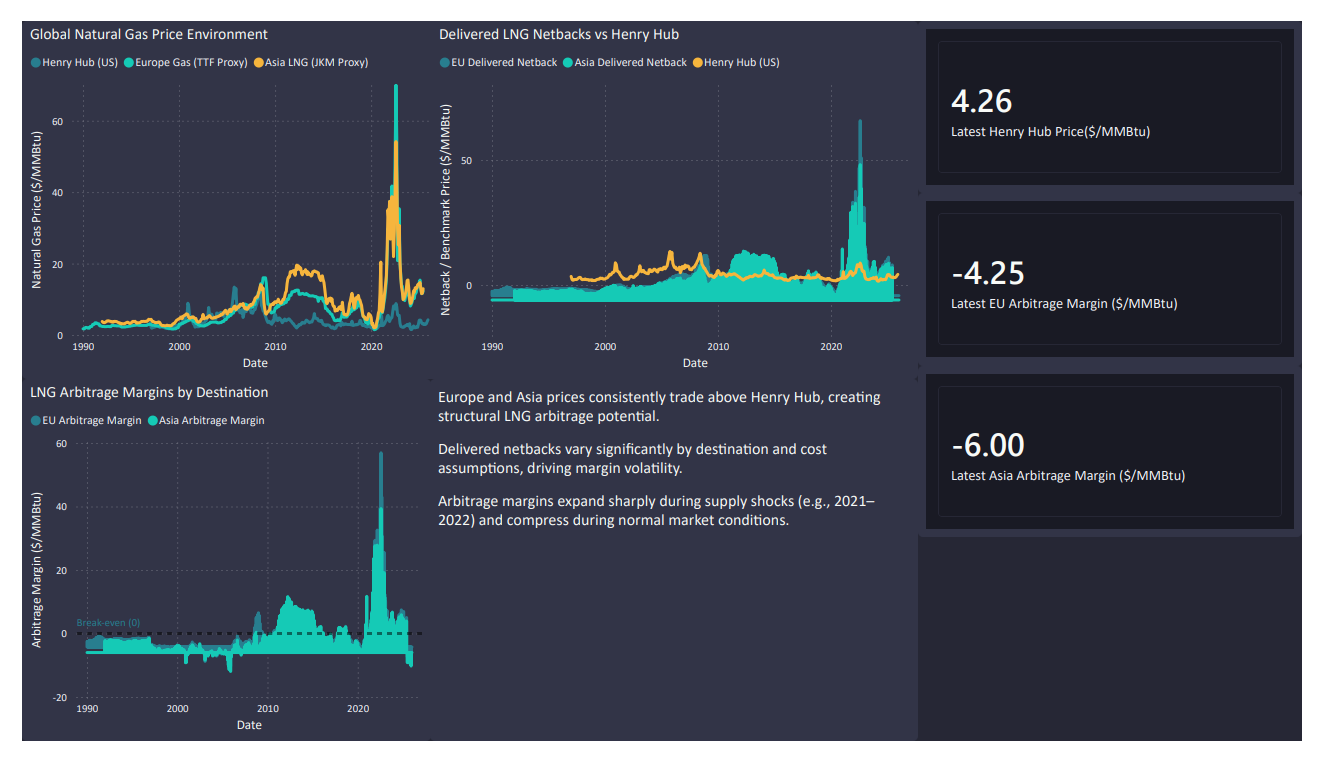

The dashboard page shown, as its layout file describes it:
{"tool":"powerbi","page":{"name":"Page 1","canvas":[1280,720],"ordinal":0},"visuals":[{"type":"lineChart","title":"Global Natural Gas Price Environment","fields":{"Category":["DateTable.Date"],"Y":["Asia_LNG.HenryHub_Price","Asia_LNG.EU_Gas_Price","Asia_LNG.Asia_LNG_Price"]},"box":[0,0,425.3,358.2],"z":0},{"type":"lineChart","title":"LNG Arbitrage Margins by Destination","fields":{"Category":["DateTable.Date"],"Y":["Asia_LNG.Arb_Margin_EU","Asia_LNG.Arb_Margin_Asia"]},"box":[0,357.9,408.5,361.8],"z":1},{"type":"lineChart","title":"Delivered LNG Netbacks vs Henry Hub","fields":{"Category":["DateTable.Date"],"Y":["Asia_LNG.EU_Netback","Asia_LNG.Asia_Netback","Asia_LNG.HenryHub_Price"]},"box":[409,0,487,358.2],"z":2},{"type":"cardVisual","fields":{"Data":["Asia_LNG.Latest_Asia_Arb_Margin"]},"box":[896,344.7,384.2,171.5],"z":4},{"type":"cardVisual","fields":{"Data":["Asia_LNG.Latest_HenryHub_Price"]},"box":[896,0,384.2,172.4],"z":5},{"type":"cardVisual","fields":{"Data":["Asia_LNG.Latest_EU_Arb_Margin"]},"box":[896,172.4,384.2,172.4],"z":6},{"type":"textbox","box":[408.5,358.2,487.5,361.8],"z":7}]}

Visuals, with their boxes in screenshot pixels (x1, y1, x2, y2), scaled from the page's 1280x720 canvas onto the 1325x763 screenshot:
"Global Natural Gas Price Environment" lineChart: x1=0 y1=0 x2=440 y2=380
"LNG Arbitrage Margins by Destination" lineChart: x1=0 y1=379 x2=423 y2=762
"Delivered LNG Netbacks vs Henry Hub" lineChart: x1=423 y1=0 x2=928 y2=380
cardVisual - Asia_LNG.Latest_Asia_Arb_Margin: x1=928 y1=365 x2=1324 y2=547
cardVisual - Asia_LNG.Latest_HenryHub_Price: x1=928 y1=0 x2=1324 y2=183
cardVisual - Asia_LNG.Latest_EU_Arb_Margin: x1=928 y1=183 x2=1324 y2=365
textbox: x1=423 y1=380 x2=928 y2=762
